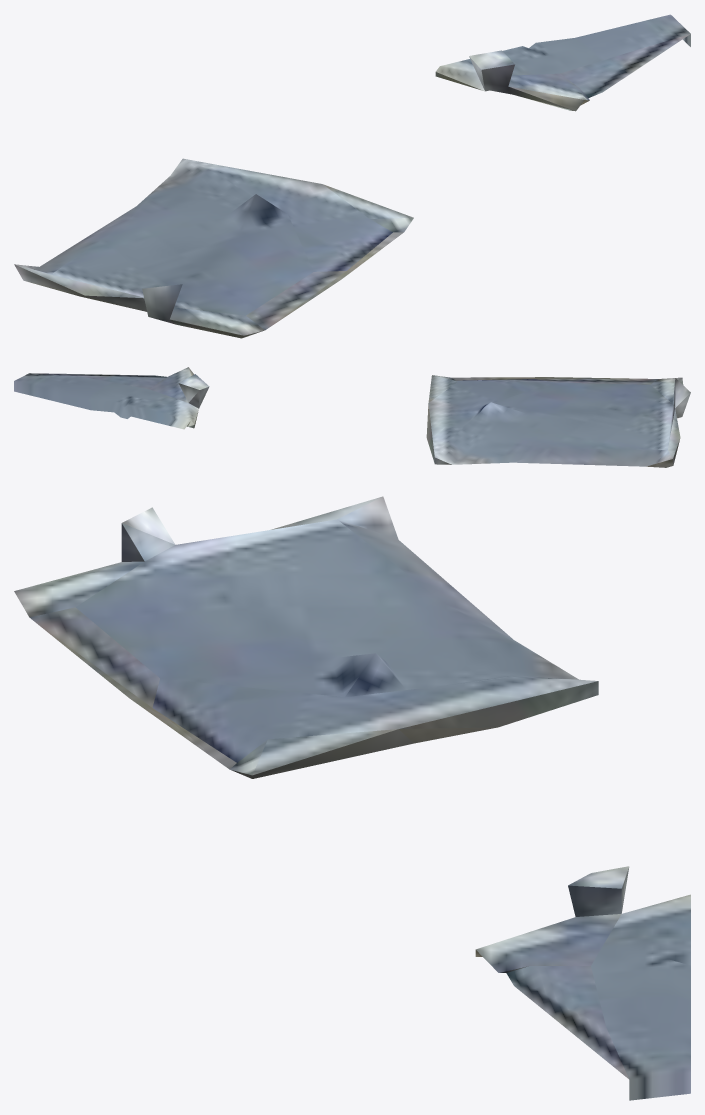
3 views of the same model, one above another, from view 1: azimuth 30°, elevation 25°; view 2: azimuth 150°, elevation 25°; view 3: azimuth 270°, elevation 25° (orthographic). The views are drawn at different scales.
Visible parts, largest first — view 1: 30436272704361626761_0; view 2: 30436272704361626761_0; view 3: 30436272704361626761_0.
Part boxes in pixels (<box>): 30436272704361626761_0: <box>14,14,690,338</box>; 30436272704361626761_0: <box>14,367,690,467</box>; 30436272704361626761_0: <box>14,496,690,1100</box>.
Size of the model in its own units: 26.69 by 1.69 by 13.57.
Materials: 1 (1 with a texture image).
